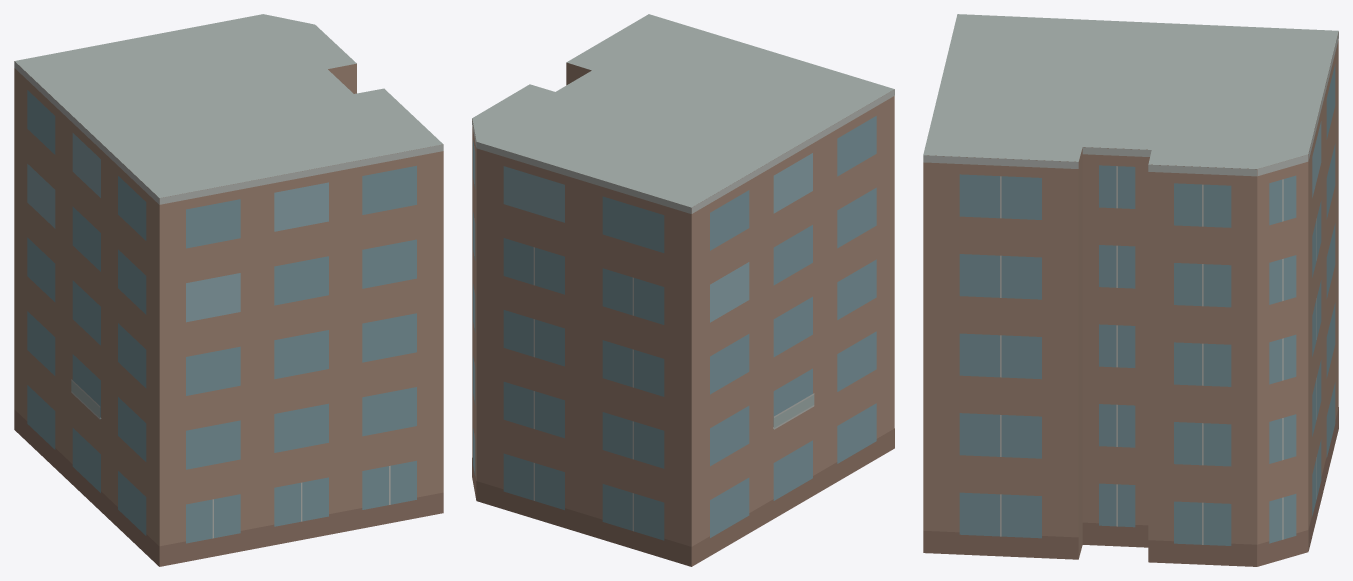
The model's file is survey-upis-32565962.glb.
The picture shows the model from 3 angles, left to right: view 1: azimuth 30°, elevation 25°; view 2: azimuth 150°, elevation 25°; view 3: azimuth 270°, elevation 25°; orthographic projection. The views are drawn at different scales.
Parts seen in each view (by area): view 1: survey-upis-32565962.tmp; view 2: survey-upis-32565962.tmp; view 3: survey-upis-32565962.tmp.
Boxes of the visible parts, x1,y1,x2,y2 form: survey-upis-32565962.tmp: (14, 14, 443, 566); survey-upis-32565962.tmp: (472, 14, 894, 566); survey-upis-32565962.tmp: (923, 14, 1338, 566).
Size of the model in its own units: 11.17 by 13.35 by 12.65.
